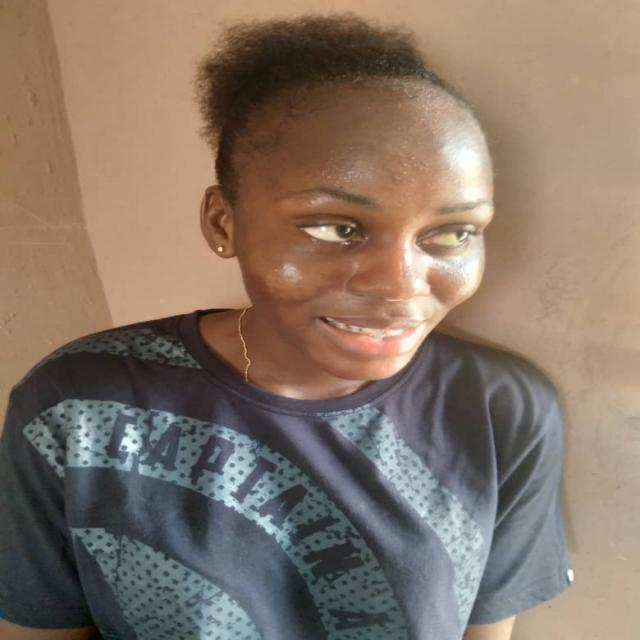happy: (203, 79, 509, 383)
